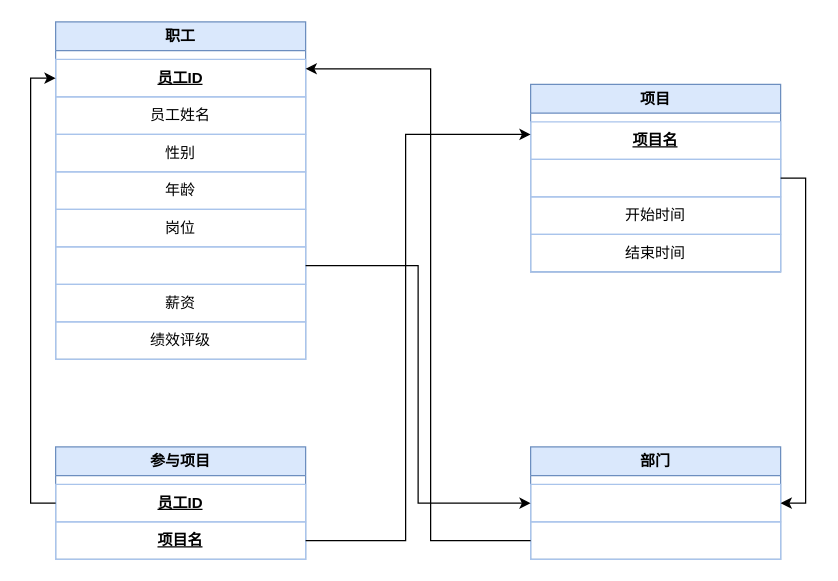
Some shapes in this 838 by 581 pixel diagram are drawn without their labels. The centre of each missing label's shape, as x and y in pixels:
"所属部门" belongs at [180,265].
"负责人ID" belongs at [655,540].
"负责部门名" belongs at [655,177].
"部门名" belongs at [655,502].
